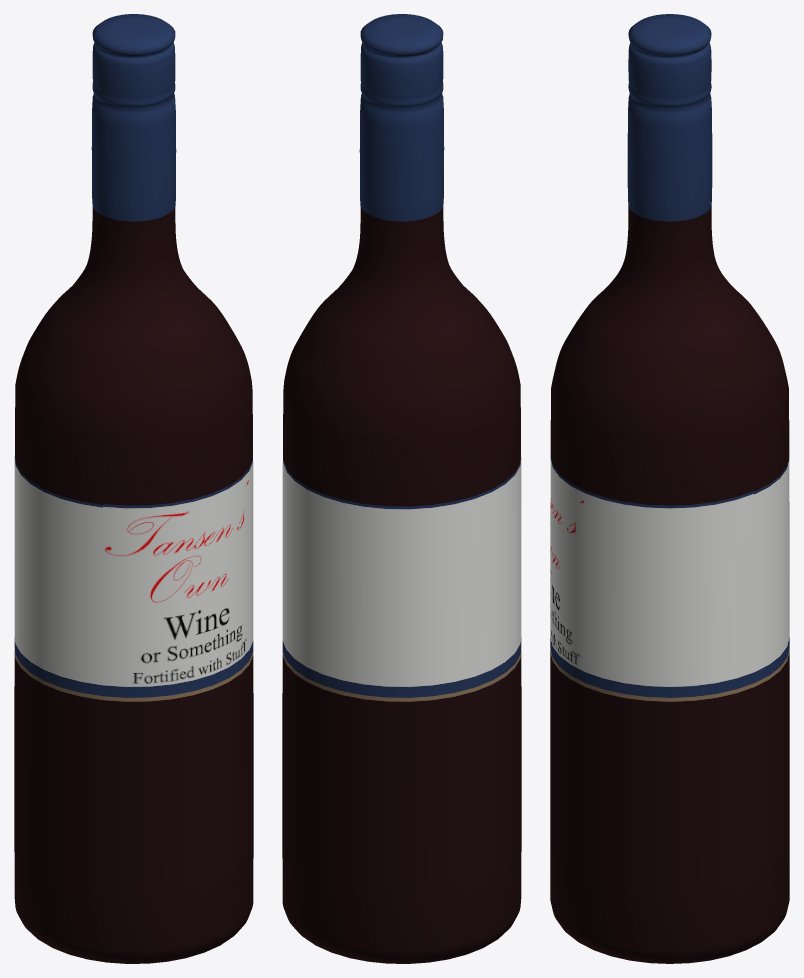
Rendered from wine.obj.
3 views of the same model, side by side, from view 1: azimuth 30°, elevation 25°; view 2: azimuth 150°, elevation 25°; view 3: azimuth 270°, elevation 25° (orthographic).
Parts seen in each view (by area): view 1: Line001; view 2: Line001; view 3: Line001.
Part boxes in pixels (x1,y1,x2,y2): Line001: (14, 14, 253, 963); Line001: (282, 14, 521, 963); Line001: (550, 14, 789, 963).
Bounding box in the file's own units: 8.48 × 34.93 × 8.48.
